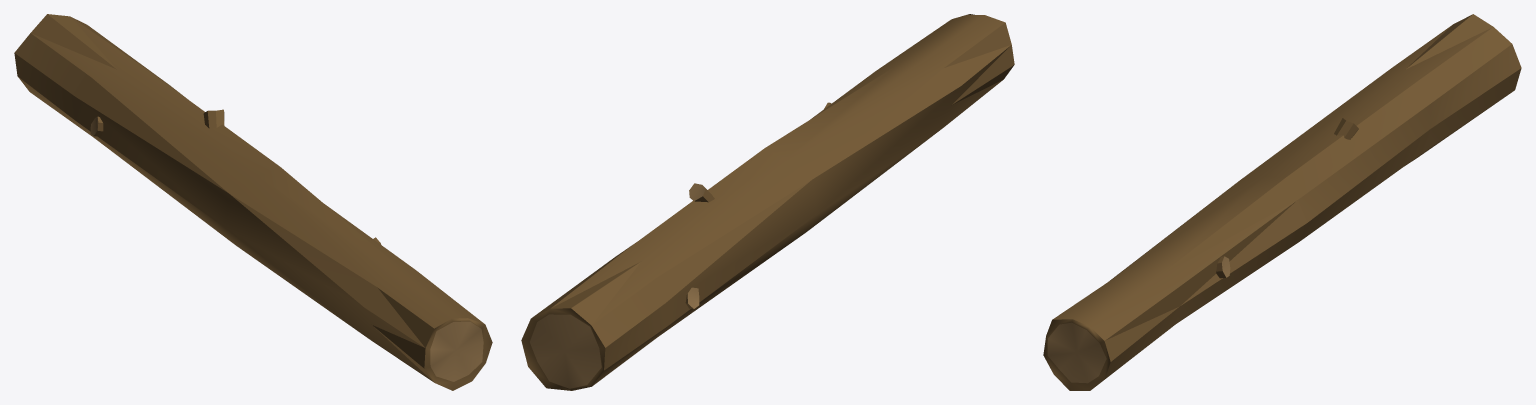
The model's file is Wooden_Beam_1.fbx.
3 views of the same model, side by side, from view 1: azimuth 30°, elevation 25°; view 2: azimuth 150°, elevation 25°; view 3: azimuth 330°, elevation 25° (orthographic). The views are drawn at different scales.
Parts seen in each view (by area): view 1: polySurface4; view 2: polySurface4; view 3: polySurface4.
Boxes of the visible parts, x1,y1,x2,y2 form: polySurface4: [14, 14, 492, 390]; polySurface4: [521, 14, 1014, 390]; polySurface4: [1043, 14, 1521, 390].
Bounding box in the file's own units: 65.92 × 64.89 × 534.
